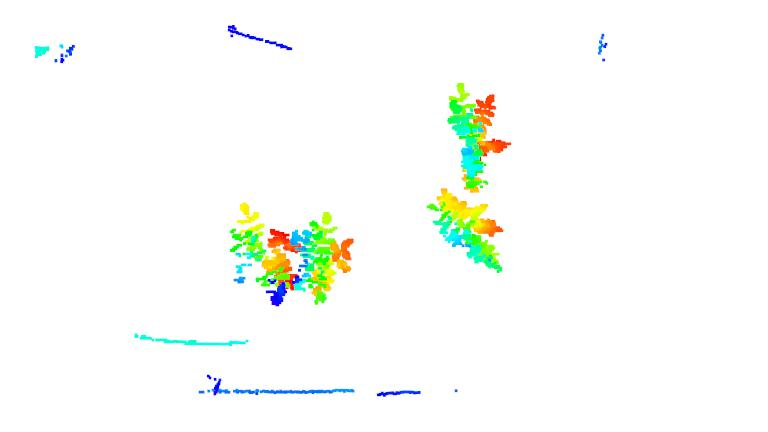chickpea: (443, 81, 512, 192), (229, 202, 299, 304), (425, 186, 505, 274), (290, 210, 355, 302)
